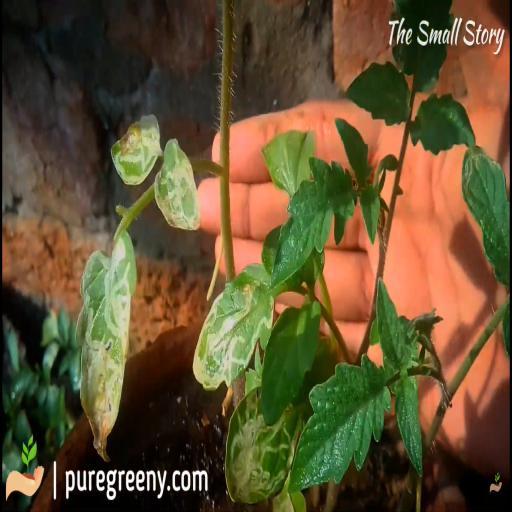Healthy: (287, 349, 392, 496), (266, 156, 354, 296), (261, 298, 322, 428), (341, 58, 412, 127), (408, 90, 477, 158), (376, 273, 412, 374), (394, 374, 424, 480), (334, 116, 374, 184), (356, 184, 382, 249)
Leaf_Miner: (73, 228, 137, 463), (189, 262, 274, 390), (223, 384, 300, 510), (461, 144, 510, 290), (153, 136, 201, 231), (112, 112, 162, 187)
